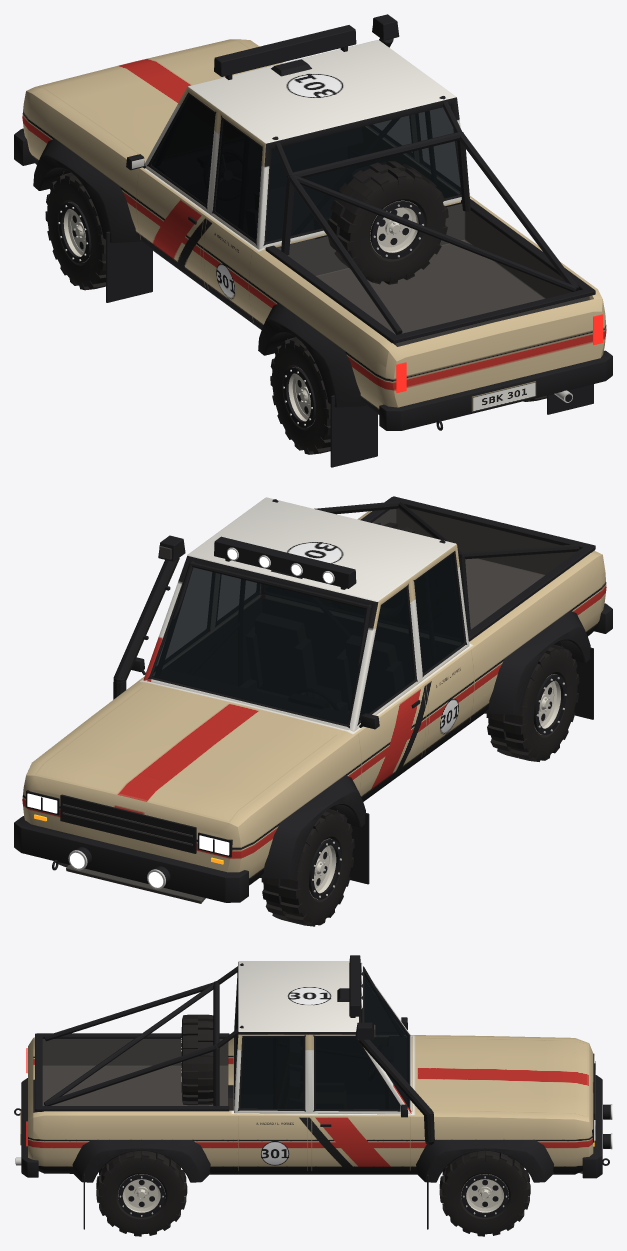
The model's file is CAR-023_Export.fbx.
The picture shows the model from 3 angles, top to bottom: view 1: azimuth 30°, elevation 25°; view 2: azimuth 150°, elevation 25°; view 3: azimuth 270°, elevation 25°; orthographic projection. The views are drawn at different scales.
Parts seen in each view (by area): view 1: CAR-023_Body, CAR-023_Accessories, CAR-023_Glass, CAR-023_SpareWheel, CAR-023_MudFlaps, CAR-023_Bumper_Rear, CAR-023_Wheel_RL_Tire, CAR-023_Wheel_FL_Tire, CAR-023_Trim, CAR-023_Wheel_RL_Rim, CAR-023_Wheel_FL_Rim, CAR-023_Lights; view 2: CAR-023_Body, CAR-023_Glass, CAR-023_Accessories, CAR-023_Bumper_Front, CAR-023_Wheel_FL_Tire, CAR-023_Wheel_RL_Tire, CAR-023_Trim, CAR-023_Lights, CAR-023_MudFlaps, CAR-023_Interior, CAR-023_Wheel_FL_Rim, CAR-023_Wheel_RL_Rim; view 3: CAR-023_Body, CAR-023_Accessories, CAR-023_Glass, CAR-023_Wheel_FR_Tire, CAR-023_Wheel_RR_Tire, CAR-023_SpareWheel, CAR-023_Wheel_FR_Rim, CAR-023_Wheel_RR_Rim, CAR-023_Bumper_Front, CAR-023_Bumper_Rear, CAR-023_Trim, CAR-023_Lights.
Boxes of the visible parts, left/top/right/bottom form: CAR-023_Body: left=22, top=39, right=606, bottom=414; CAR-023_Accessories: left=214, top=14, right=595, bottom=346; CAR-023_Glass: left=151, top=95, right=461, bottom=241; CAR-023_SpareWheel: left=327, top=161, right=448, bottom=284; CAR-023_MudFlaps: left=106, top=231, right=593, bottom=467; CAR-023_Bumper_Rear: left=379, top=350, right=612, bottom=430; CAR-023_Wheel_RL_Tire: left=270, top=337, right=330, bottom=454; CAR-023_Wheel_FL_Tire: left=45, top=172, right=105, bottom=290; CAR-023_Trim: left=188, top=59, right=572, bottom=430; CAR-023_Wheel_RL_Rim: left=283, top=366, right=315, bottom=427; CAR-023_Wheel_FL_Rim: left=58, top=202, right=91, bottom=263; CAR-023_Lights: left=396, top=314, right=603, bottom=392; CAR-023_Body: left=22, top=497, right=606, bottom=885; CAR-023_Glass: left=152, top=554, right=463, bottom=724; CAR-023_Accessories: left=66, top=496, right=595, bottom=903; CAR-023_Bumper_Front: left=14, top=816, right=248, bottom=902; CAR-023_Wheel_FL_Tire: left=261, top=809, right=354, bottom=926; CAR-023_Wheel_RL_Tire: left=486, top=644, right=579, bottom=761; CAR-023_Trim: left=52, top=570, right=420, bottom=870; CAR-023_Lights: left=26, top=790, right=232, bottom=889; CAR-023_MudFlaps: left=349, top=647, right=593, bottom=884; CAR-023_Interior: left=173, top=561, right=371, bottom=665; CAR-023_Wheel_FL_Rim: left=309, top=838, right=341, bottom=899; CAR-023_Wheel_RL_Rim: left=533, top=674, right=566, bottom=734; CAR-023_Body: left=28, top=961, right=593, bottom=1182; CAR-023_Accessories: left=35, top=955, right=582, bottom=1173; CAR-023_Glass: left=235, top=975, right=408, bottom=1109; CAR-023_Wheel_FR_Tire: left=439, top=1150, right=530, bottom=1236; CAR-023_Wheel_RR_Tire: left=96, top=1150, right=187, bottom=1236; CAR-023_SpareWheel: left=181, top=1014, right=213, bottom=1105; CAR-023_Wheel_FR_Rim: left=461, top=1174, right=508, bottom=1217; CAR-023_Wheel_RR_Rim: left=118, top=1174, right=165, bottom=1217; CAR-023_Bumper_Front: left=582, top=1075, right=602, bottom=1178; CAR-023_Bumper_Rear: left=21, top=1078, right=38, bottom=1177; CAR-023_Trim: left=14, top=988, right=609, bottom=1165; CAR-023_Lights: left=26, top=1048, right=612, bottom=1149.
Size of the model in its own units: 2.14 by 2.14 by 5.53.
17 materials, 2 textured.
